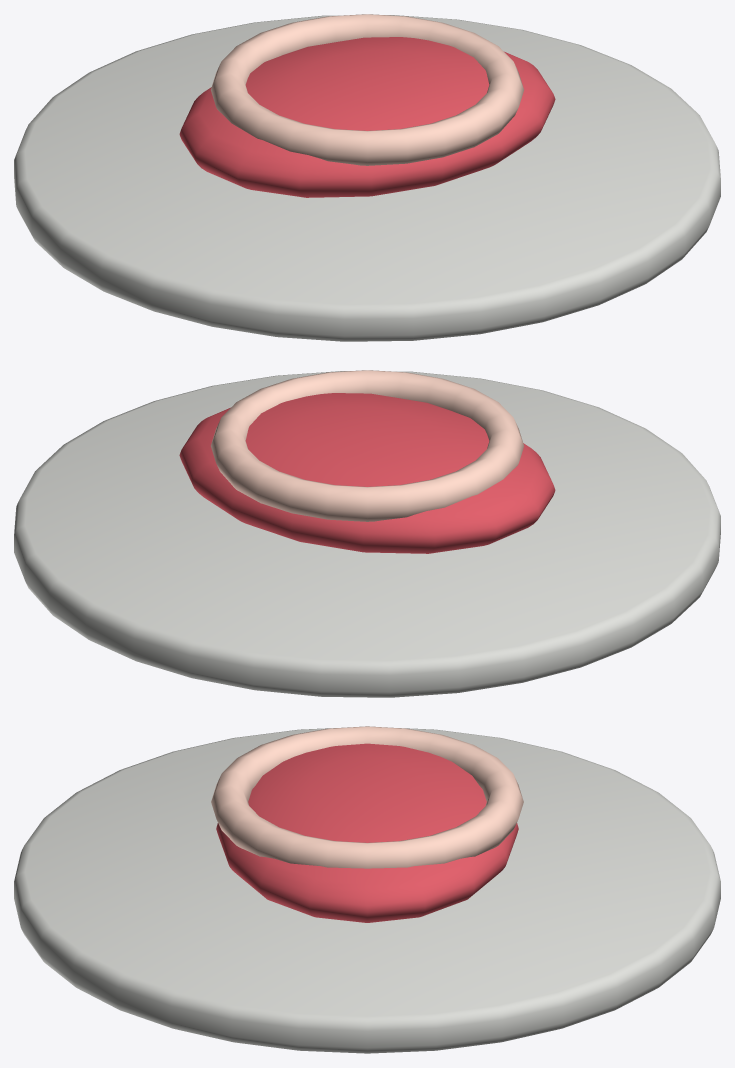
Rendered from IconMeat.fbx.
The picture shows the model from 3 angles, top to bottom: view 1: azimuth 30°, elevation 25°; view 2: azimuth 150°, elevation 25°; view 3: azimuth 270°, elevation 25°; orthographic projection.
Visible parts, largest first — view 1: IconDisc.002, Steak.002, FatRim.002; view 2: IconDisc.002, Steak.002, FatRim.002; view 3: IconDisc.002, Steak.002, FatRim.002.
Part boxes in pixels (x1,y1,x2,y2): IconDisc.002: (14,15,720,341); Steak.002: (179,37,555,197); FatRim.002: (211,14,523,165); IconDisc.002: (14,371,720,697); Steak.002: (179,393,555,553); FatRim.002: (211,370,523,521); IconDisc.002: (14,728,720,1053); Steak.002: (216,743,518,922); FatRim.002: (211,726,523,868).
Size of the model in its own units: 0.96 by 0.1847 by 0.96.
